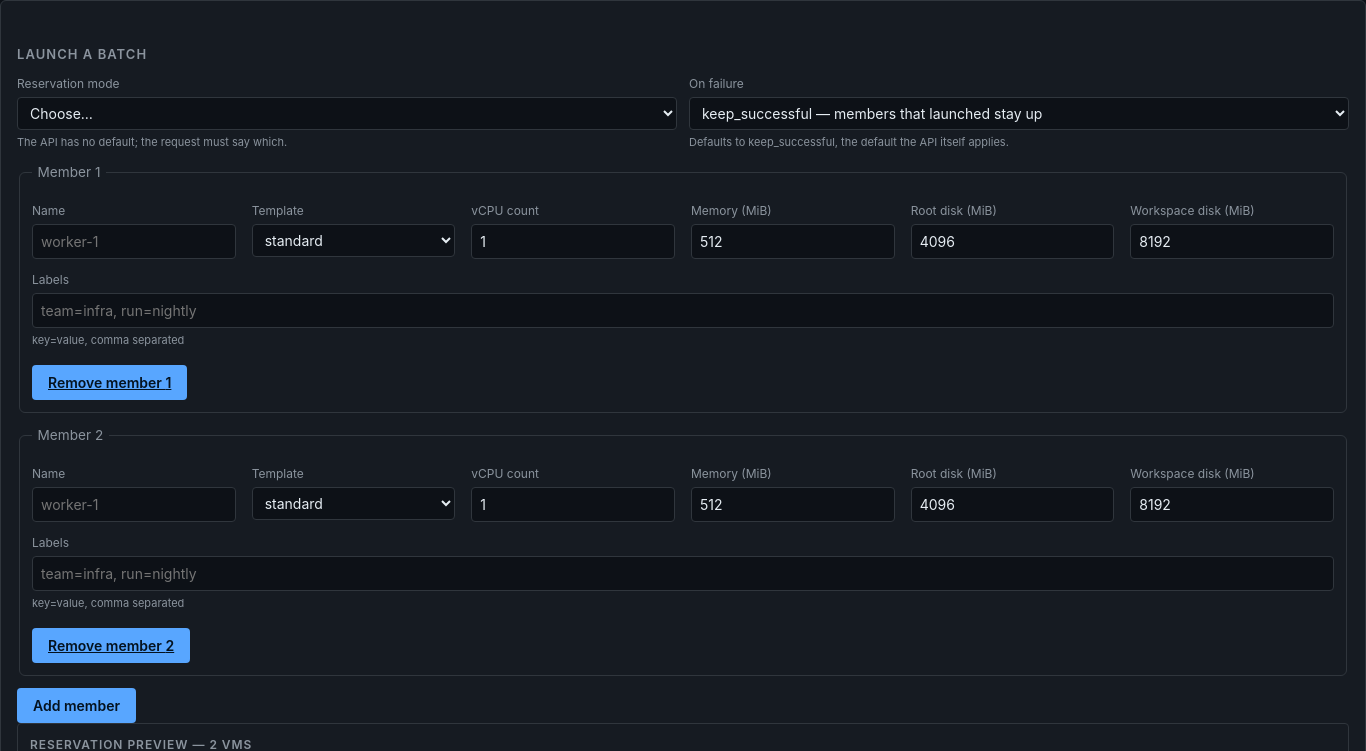
Test: LaunchBatch member editor › starts with two members and can add and remove them
The image size is (1366, 751).
Check: the number of elements with test id "member-fields" is 2, box [32,202,1334,349]; [32,465,1334,612]
Click the button "Add member" at (76, 705), box [17,688,136,723]
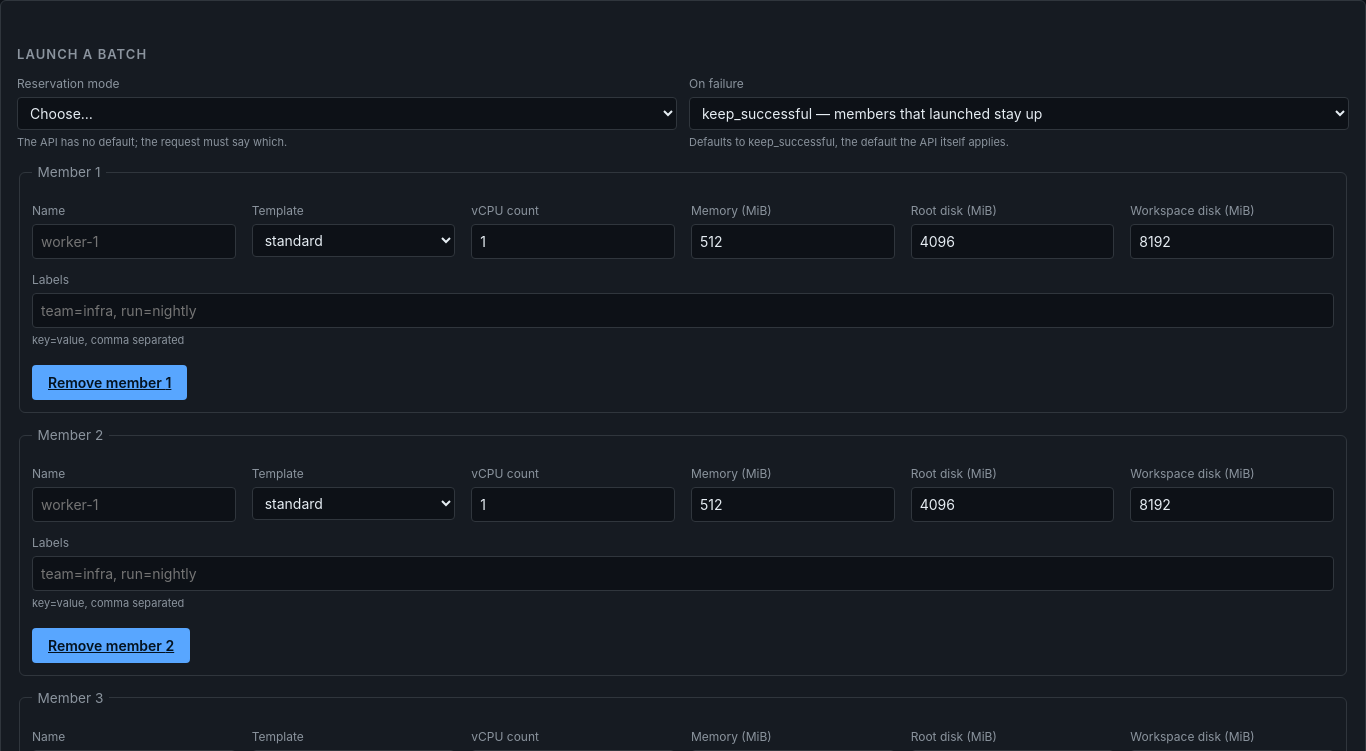
Click the button "Remove member 1" at (110, 382), box [32,365,187,400]
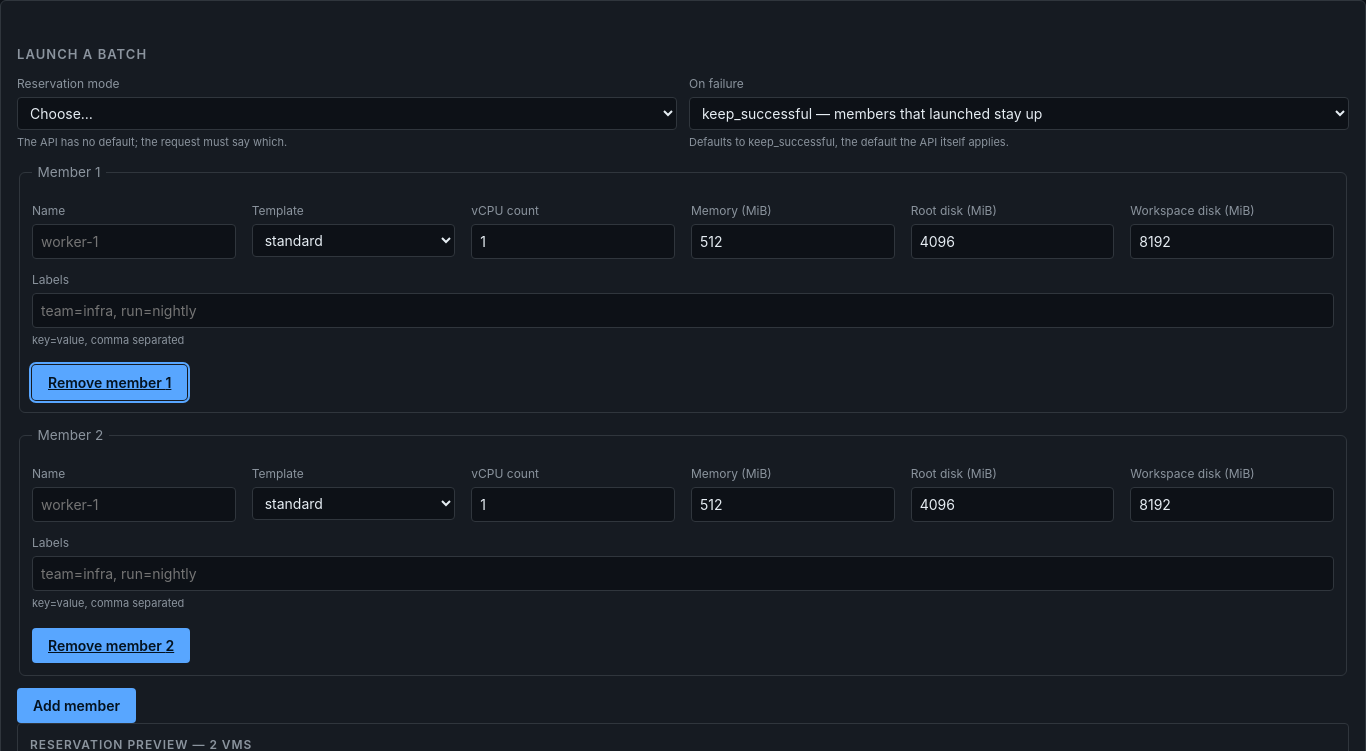
Check: the number of elements with test id "member-fields" is 2, box [32,202,1334,349]; [32,465,1334,612]
